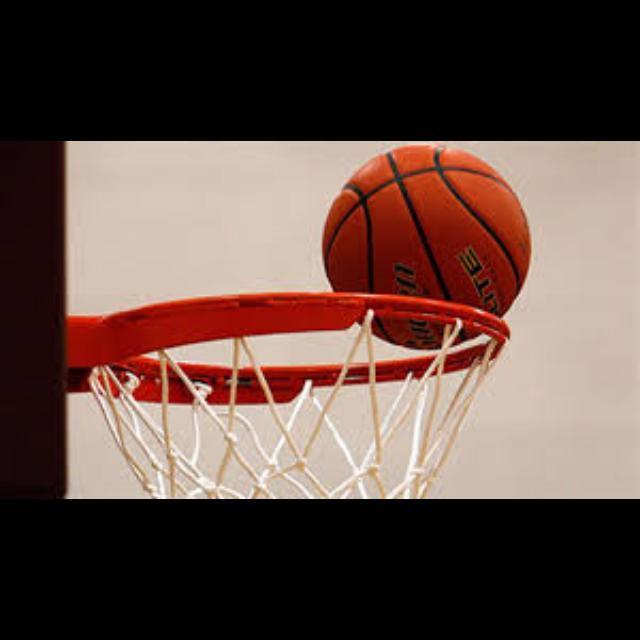basketball: (323, 144, 531, 348)
